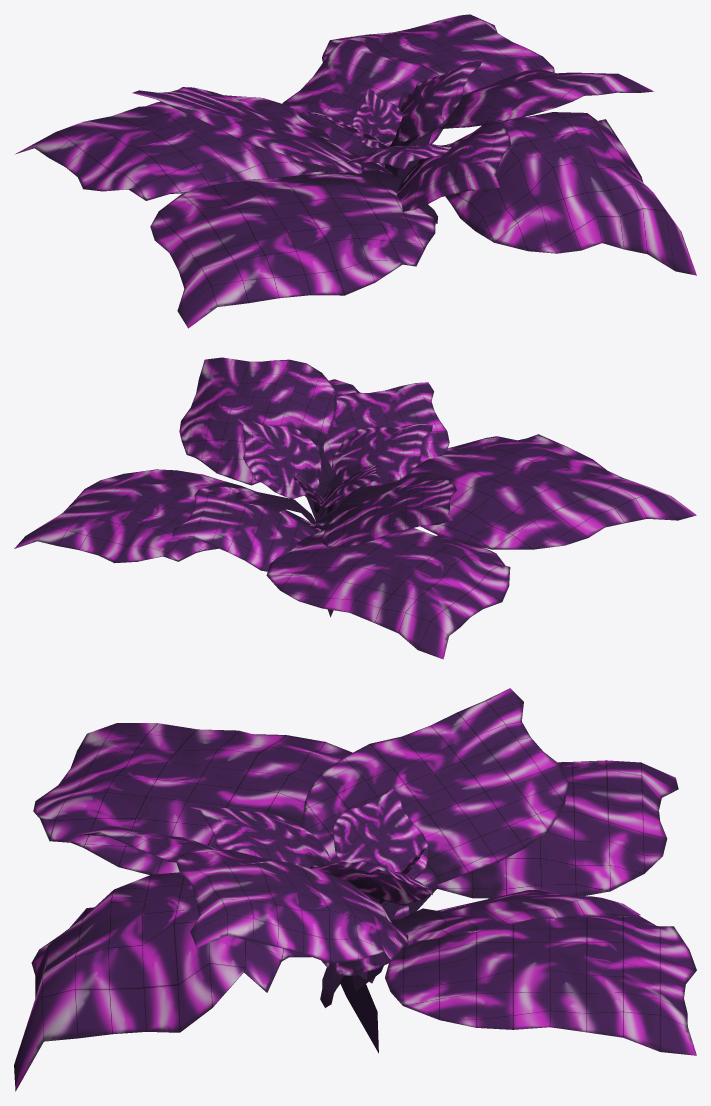
The model's file is plant_1.gltf.
3 views of the same model, one above another, from view 1: azimuth 30°, elevation 25°; view 2: azimuth 150°, elevation 25°; view 3: azimuth 270°, elevation 25° (orthographic). The views are drawn at different scales.
Visible parts, largest first — view 1: pasted__pasted__pasted__pasted__pasted__leaf; view 2: pasted__pasted__pasted__pasted__pasted__leaf; view 3: pasted__pasted__pasted__pasted__pasted__leaf.
Part boxes in pixels (x1,y1,x2,y2): pasted__pasted__pasted__pasted__pasted__leaf: (15,14,696,328); pasted__pasted__pasted__pasted__pasted__leaf: (14,357,696,659); pasted__pasted__pasted__pasted__pasted__leaf: (14,688,696,1091).
Bounding box in the file's own units: 0.645 × 0.2384 × 0.5609.
1 material, 1 textured.
